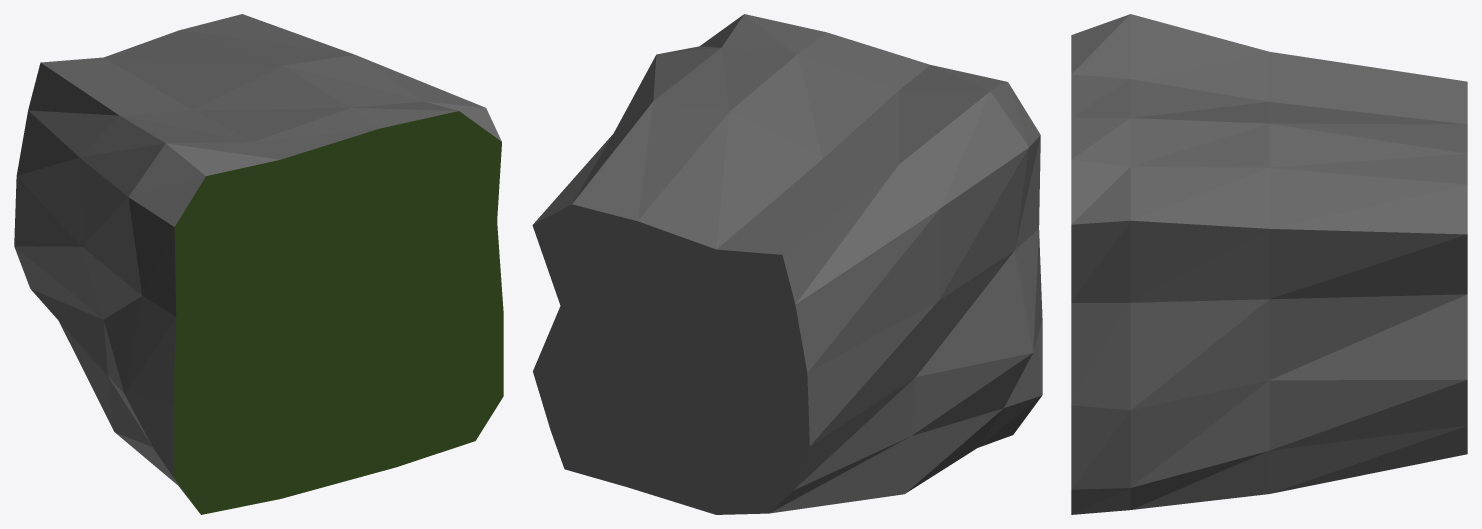
File: cliff_core.obj
3 renders of one model, left to right at view 1: azimuth 30°, elevation 25°; view 2: azimuth 150°, elevation 25°; view 3: azimuth 270°, elevation 25°, orthographic. The views are drawn at different scales.
Parts seen in each view (by area): view 1: ClosedCliffCore; view 2: ClosedCliffCore; view 3: ClosedCliffCore.
Part boxes in pixels (x1,y1,x2,y2): ClosedCliffCore: [14, 14, 503, 514]; ClosedCliffCore: [532, 14, 1042, 514]; ClosedCliffCore: [1071, 14, 1467, 514].
Bounding box in the file's own units: 219 × 216 × 200.
